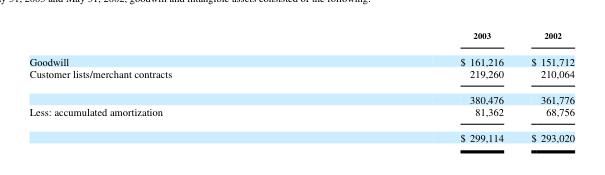table: (28, 29, 573, 144)
table column: (28, 29, 315, 144), (315, 29, 516, 144), (516, 29, 573, 144)
table column header: (28, 29, 573, 47)
table row: (28, 123, 573, 144), (28, 47, 573, 66), (28, 66, 573, 85), (28, 85, 573, 104), (28, 104, 573, 123), (28, 29, 573, 47)
